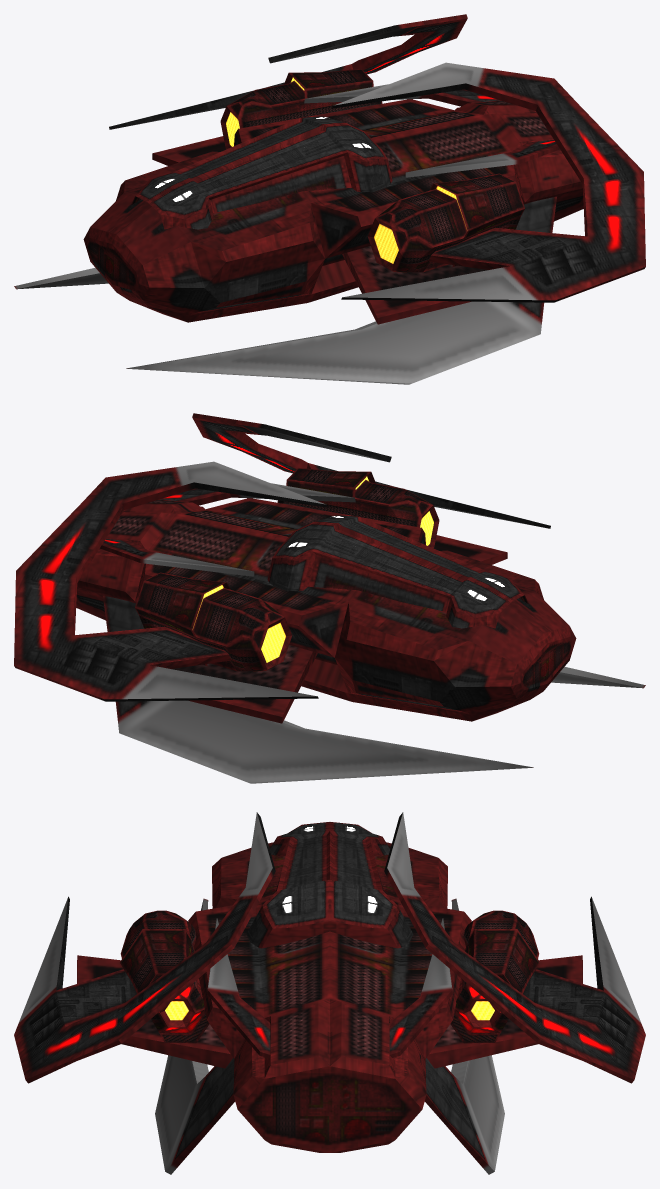
Rendered from pirateShuttle.FBX.
3 views of the same model, one above another, from view 1: azimuth 30°, elevation 25°; view 2: azimuth 150°, elevation 25°; view 3: azimuth 270°, elevation 25° (orthographic). The views are drawn at different scales.
Visible parts, largest first — view 1: Sphere01; view 2: Sphere01; view 3: Sphere01.
Boxes of the visible parts, <box> form: Sphere01: <box>14,14,645,384</box>; Sphere01: <box>14,413,645,783</box>; Sphere01: <box>14,812,645,1174</box>.
Size of the model in its own units: 10.87 by 5.52 by 10.66.
1 material, 1 textured.
